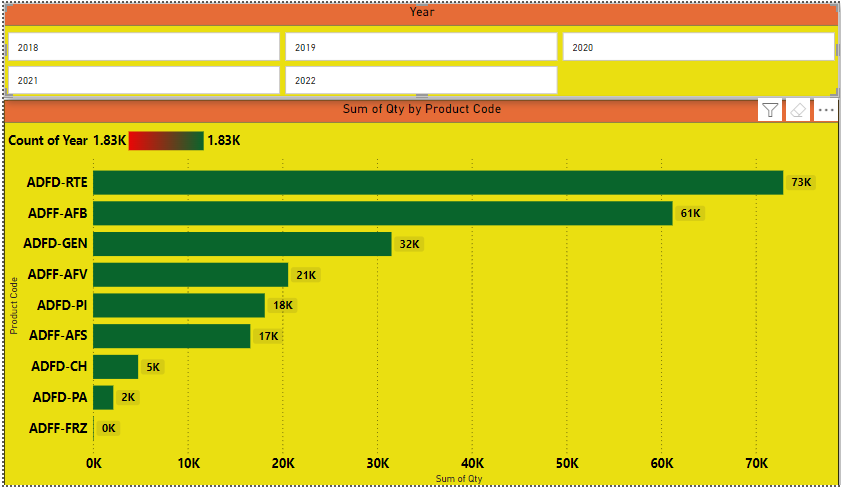

This screenshot's page, from the dashboard's own definition file:
{"tool":"powerbi","page":{"name":"product are buying and which product are not buying","canvas":[1280,720],"ordinal":1},"visuals":[{"type":"clusteredBarChart","fields":{"Category":["All.Product Code"],"Y":["Sum(All. Qty)"]},"box":[0,144.3,1245.7,575.7],"z":0},{"type":"advancedSlicerVisual","fields":{"Values":["All.Year"]},"box":[0,0,1245.7,140],"z":1000}]}

Visuals, with their boxes on the page's 1280x720 design canvas (x1, y1, x2, y2). These are canvas units, not pixel positions in the 841x489 screenshot, which may show the page scaled, cropped or inside an application window:
clusteredBarChart - All.Product Code x Sum(All. Qty): (0,144,1246,720)
advancedSlicerVisual - All.Year: (0,0,1246,140)
